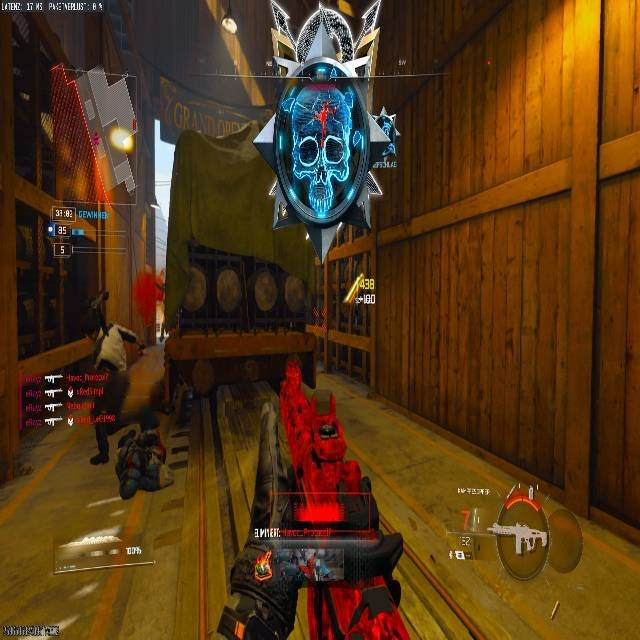head: (297, 5, 360, 71)
player: (252, 3, 401, 229), (79, 291, 144, 469), (114, 426, 173, 501), (376, 111, 401, 163)
